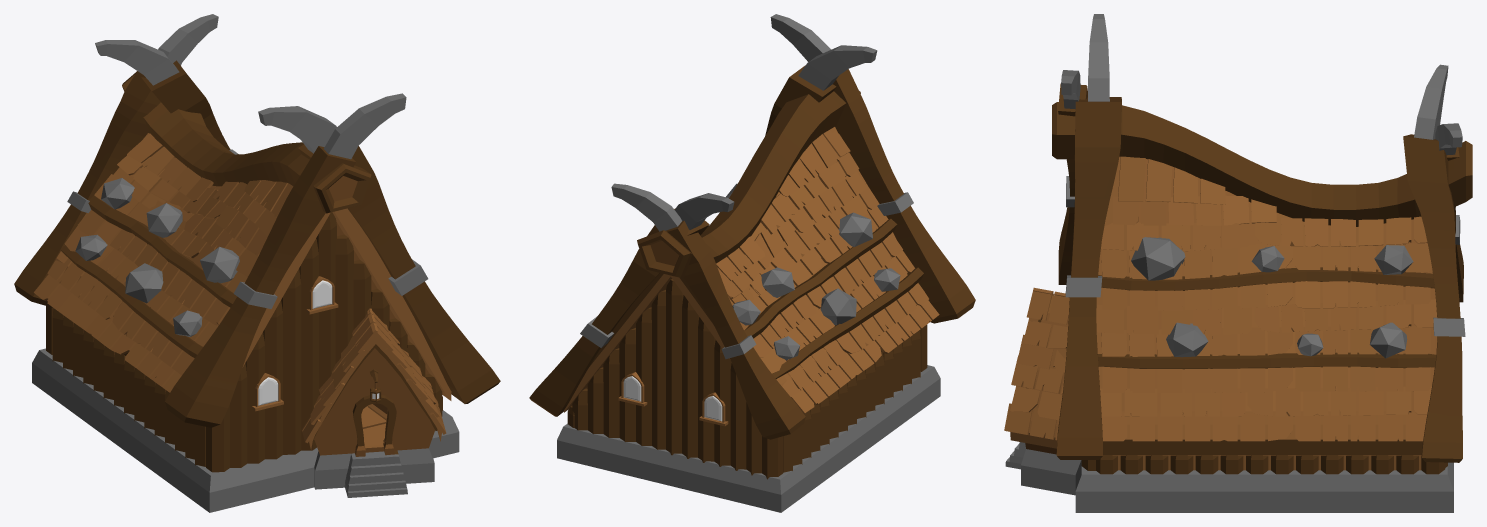
The model's file is B_BaseB.fbx.
3 renders of one model, left to right at view 1: azimuth 30°, elevation 25°; view 2: azimuth 150°, elevation 25°; view 3: azimuth 270°, elevation 25°, orthographic. The views are drawn at different scales.
Parts seen in each view (by area): view 1: B_BaseB; view 2: B_BaseB; view 3: B_BaseB.
Boxes of the visible parts, x1,y1,x2,y2 form: B_BaseB: [14, 14, 500, 512]; B_BaseB: [529, 14, 975, 512]; B_BaseB: [1004, 14, 1472, 512].
Size of the model in its own units: 922 by 1060 by 1120.
